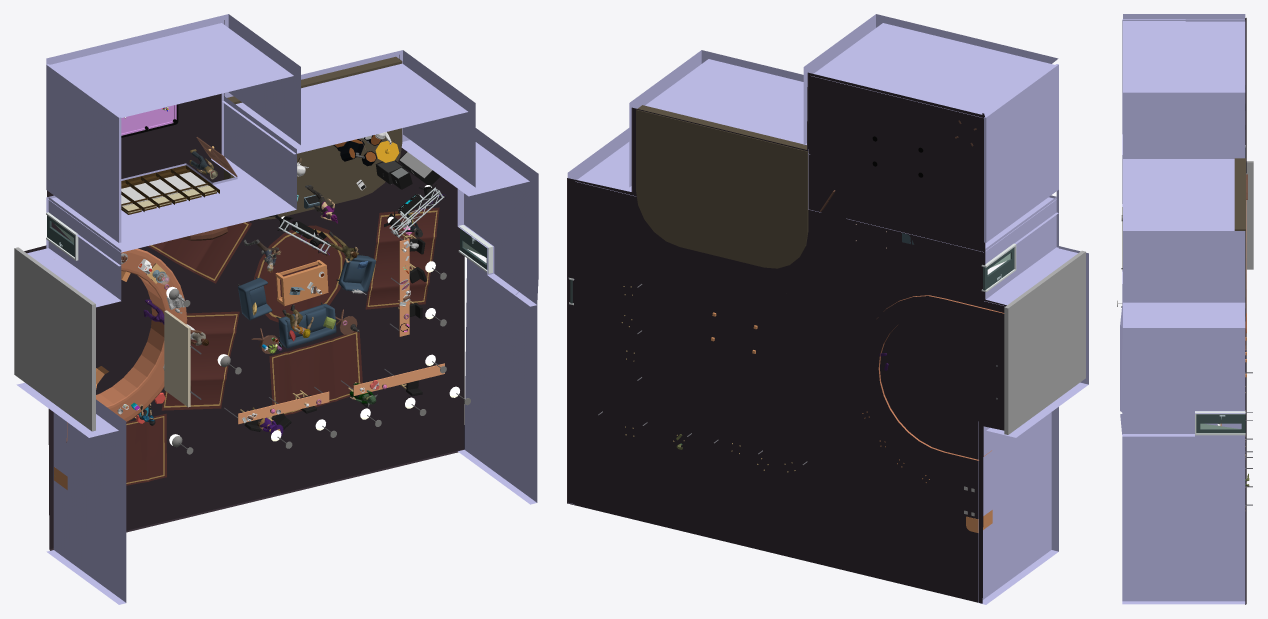
The model's file is Coffee Shop.glb.
The picture shows the model from 3 angles, left to right: view 1: azimuth 30°, elevation 25°; view 2: azimuth 150°, elevation 25°; view 3: azimuth 270°, elevation 25°; orthographic projection. The views are drawn at different scales.
Parts seen in each view (by area): view 1: 3FWalls-col.001, 3FFloor-col, Brick.001, Cube.002, Carpet_1.004, Counter, Carpet_1.003, Carpet_1.001, Carpet_Round, Windows.006, Carpet_1, Carpet_1.002 (+15 smaller); view 2: 3FFloor-col, 3FWalls-col.001, Cube.002, Brick.001, doorwayFront; view 3: 3FWalls-col.001, doorwayFront.001, Cube.002, Brick.001, 3FFloor-col.
Boxes of the visible parts, box(x1,y1,x2,y2) form: 3FWalls-col.001: box(16, 14, 538, 604); 3FFloor-col: box(24, 20, 464, 550); Brick.001: box(14, 247, 95, 431); Cube.002: box(224, 56, 402, 219); Carpet_1.004: box(269, 329, 362, 415); Counter: box(66, 248, 187, 442); Carpet_1.003: box(365, 207, 439, 309); Carpet_1.001: box(161, 311, 239, 410); Carpet_Round: box(254, 225, 345, 322); Windows.006: box(121, 165, 219, 214); Carpet_1: box(147, 221, 251, 283); Carpet_1.002: box(126, 413, 166, 485); 3FFloor-col: box(567, 72, 1006, 603); 3FWalls-col.001: box(567, 14, 1088, 604); Cube.002: box(636, 105, 808, 268); Brick.001: box(1004, 250, 1085, 434); doorwayFront: box(981, 243, 1016, 292); 3FWalls-col.001: box(1120, 14, 1245, 604); doorwayFront.001: box(1195, 411, 1245, 435); Cube.002: box(1234, 158, 1245, 321); Brick.001: box(1122, 161, 1253, 269); 3FFloor-col: box(1245, 18, 1246, 604).
Size of the model in its own units: 132 by 139 by 41.13.
